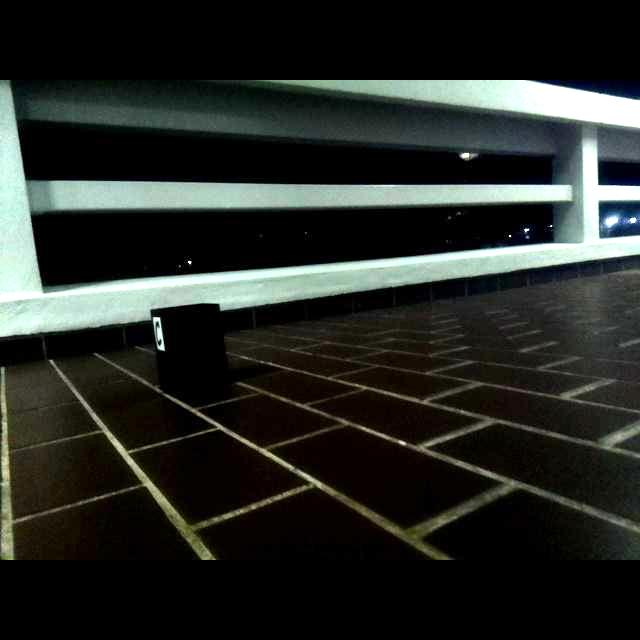C: (155, 321, 162, 347)
